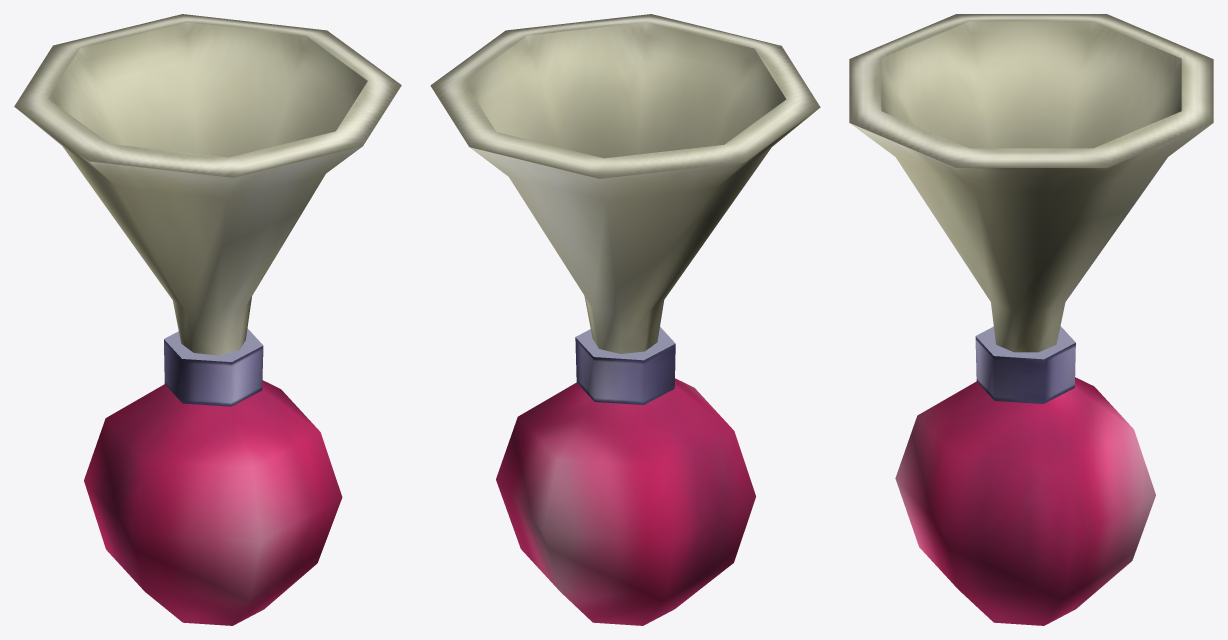
File: bikehorn.glb
The picture shows the model from 3 angles, left to right: view 1: azimuth 30°, elevation 25°; view 2: azimuth 150°, elevation 25°; view 3: azimuth 270°, elevation 25°; orthographic projection.
Visible parts, largest first — view 1: squezze, inside, outside, edge, middle; view 2: squezze, inside, outside, edge, middle; view 3: squezze, inside, outside, edge, middle.
Part boxes in pixels (box(x1,y1,x2,y2)): squezze: box(84, 380, 342, 625); inside: box(48, 22, 367, 157); outside: box(16, 108, 362, 355); edge: box(14, 14, 401, 177); middle: box(164, 328, 263, 406); squezze: box(496, 378, 755, 625); inside: box(464, 22, 786, 158); outside: box(469, 110, 816, 353); edge: box(430, 14, 820, 178); middle: box(575, 327, 675, 404); squezze: box(895, 377, 1155, 625); inside: box(881, 21, 1181, 148); outside: box(850, 123, 1212, 352); edge: box(849, 14, 1213, 167); middle: box(975, 326, 1075, 403).
Bounding box in the file's own units: 2.73 × 4.29 × 2.73.
3 materials, 2 textured.
